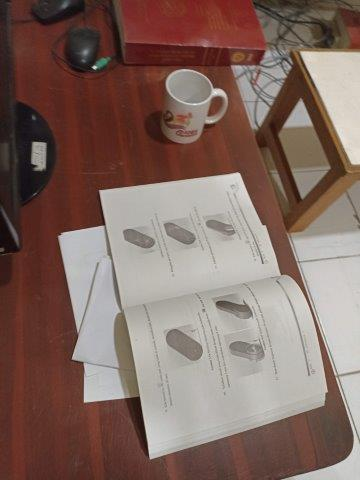kertas: (57, 172, 328, 460)
